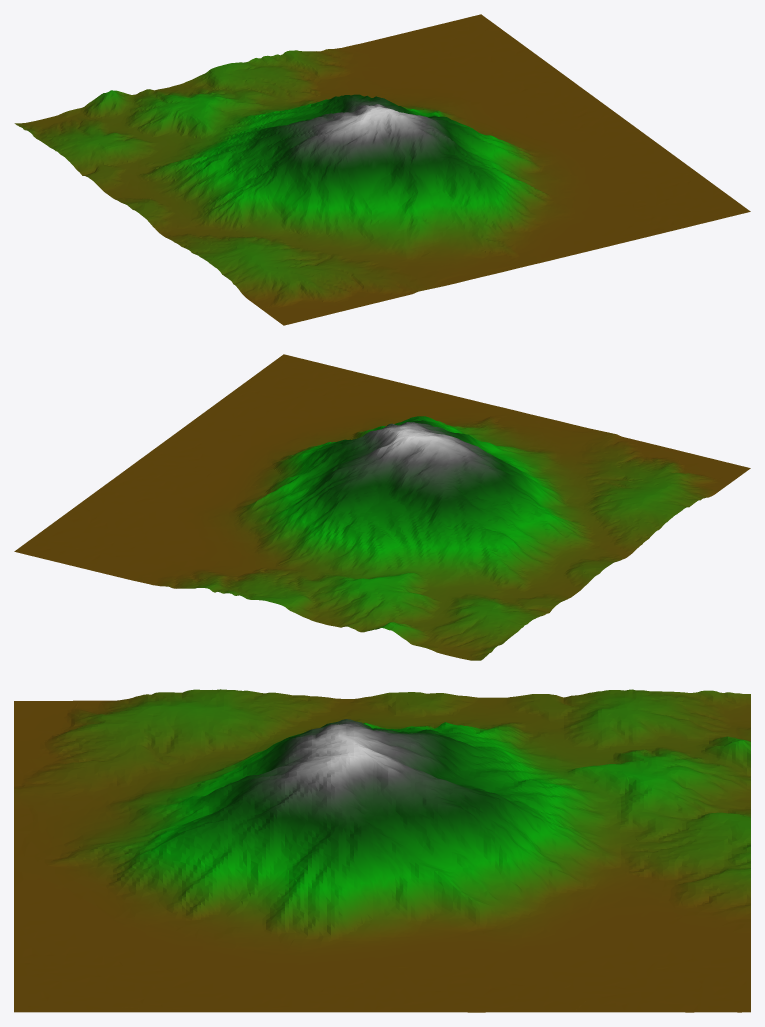
Rendered from Tile_004.fbx.
3 views of the same model, one above another, from view 1: azimuth 30°, elevation 25°; view 2: azimuth 150°, elevation 25°; view 3: azimuth 270°, elevation 25° (orthographic). The views are drawn at different scales.
Parts seen in each view (by area): view 1: foreach_begin1; view 2: foreach_begin1; view 3: foreach_begin1.
Boxes of the visible parts, x1=… form: foreach_begin1: x1=14, y1=14, x2=750, y2=325; foreach_begin1: x1=14, y1=354, x2=750, y2=660; foreach_begin1: x1=14, y1=689, x2=750, y2=1012.
Bounding box in the file's own units: 1552 × 228 × 1552.
